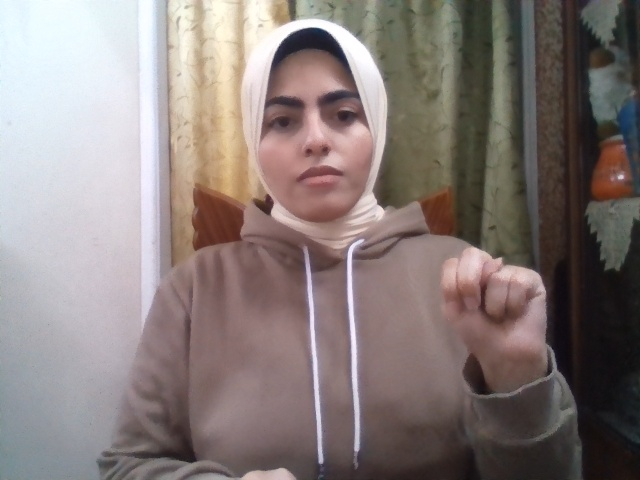N: (441, 247, 547, 364)
